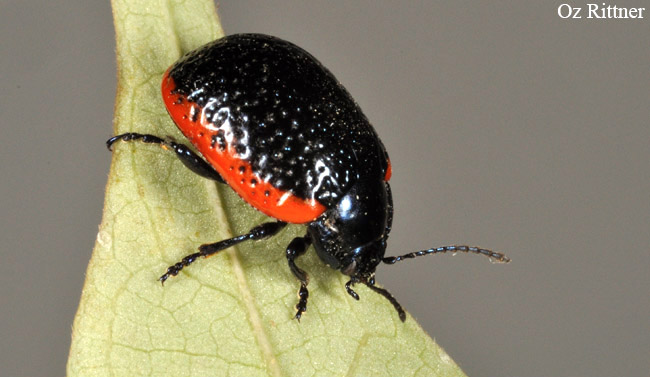Chrysolina_gypsophila: (102, 23, 513, 333)
